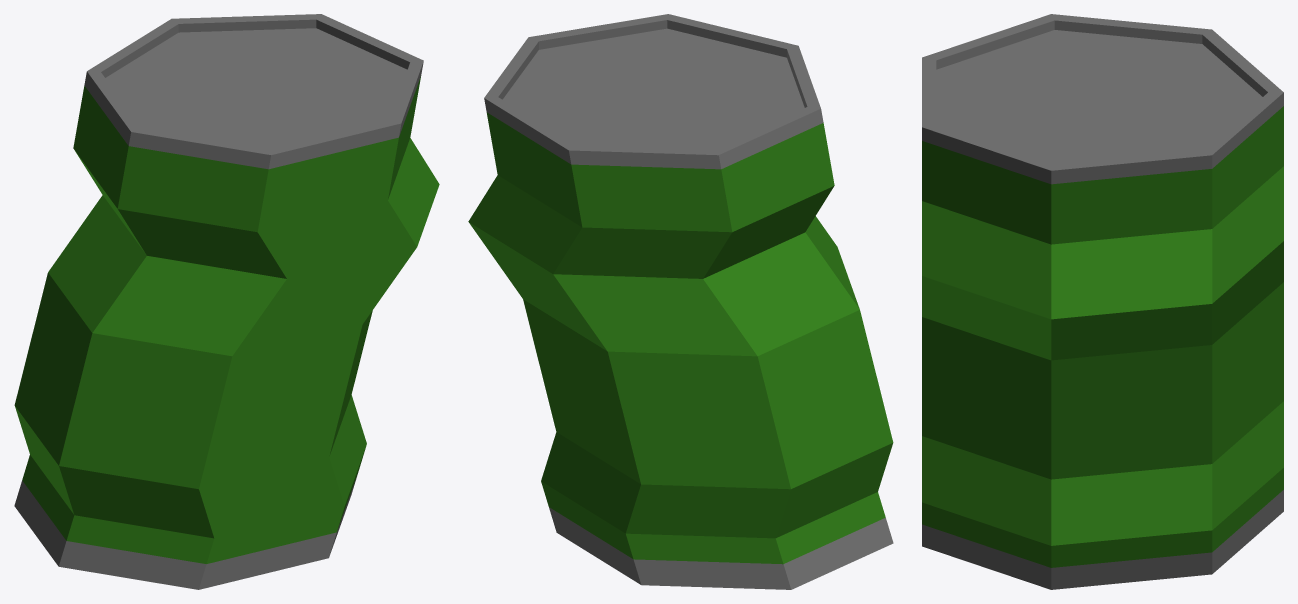
File: GreenCan003.fbx
3 renders of one model, left to right at view 1: azimuth 30°, elevation 25°; view 2: azimuth 150°, elevation 25°; view 3: azimuth 270°, elevation 25°, orthographic. The views are drawn at different scales.
Parts seen in each view (by area): view 1: CanGreen003; view 2: CanGreen003; view 3: CanGreen003.
Part boxes in pixels (left/top/right/bottom): CanGreen003: left=14, top=14, right=439, bottom=589; CanGreen003: left=468, top=14, right=893, bottom=589; CanGreen003: left=922, top=14, right=1283, bottom=589.
Bounding box in the file's own units: 86.94 × 90.95 × 65.11.
